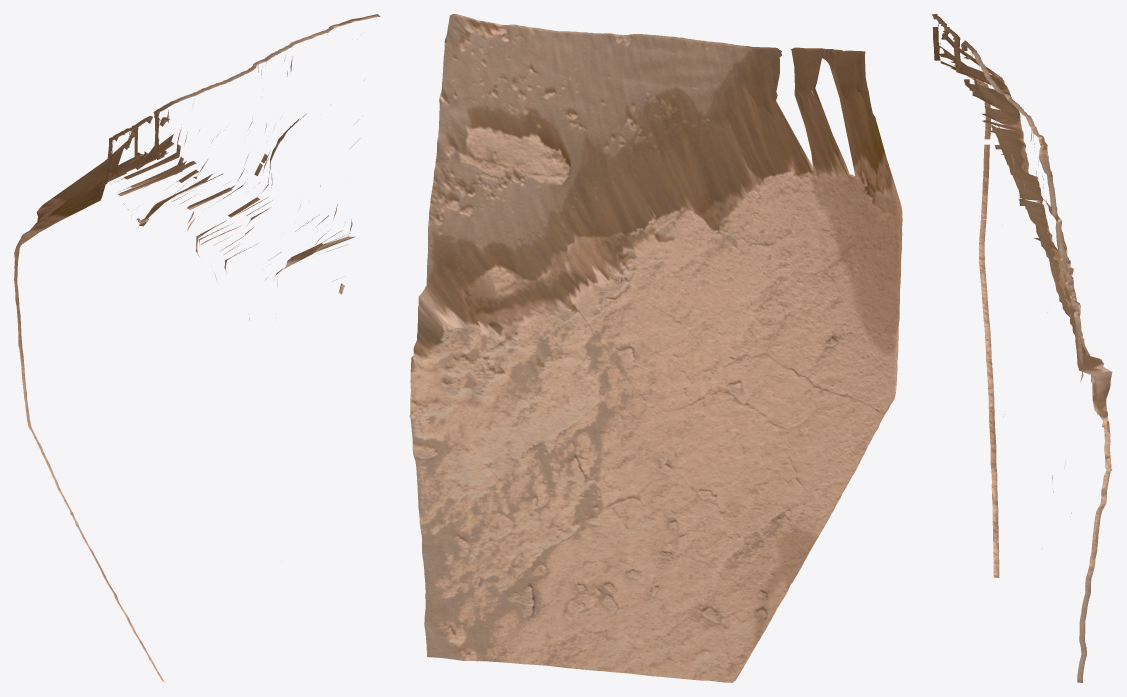
3 views of the same model, side by side, from view 1: azimuth 30°, elevation 25°; view 2: azimuth 150°, elevation 25°; view 3: azimuth 270°, elevation 25° (orthographic). The views are drawn at different scales.
Size of the model in its own units: 0.7209 by 1.03 by 0.3216.
1 material, 1 textured.
